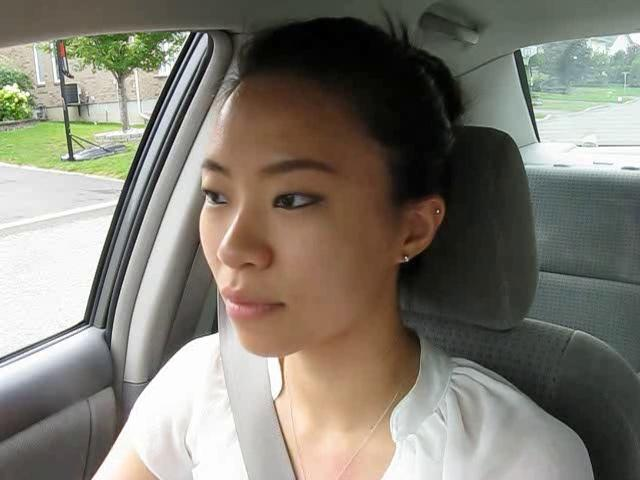no_yawn: (203, 276, 300, 330)
open_eyeL: (191, 176, 242, 219)
open_eyeR: (259, 178, 335, 227)
